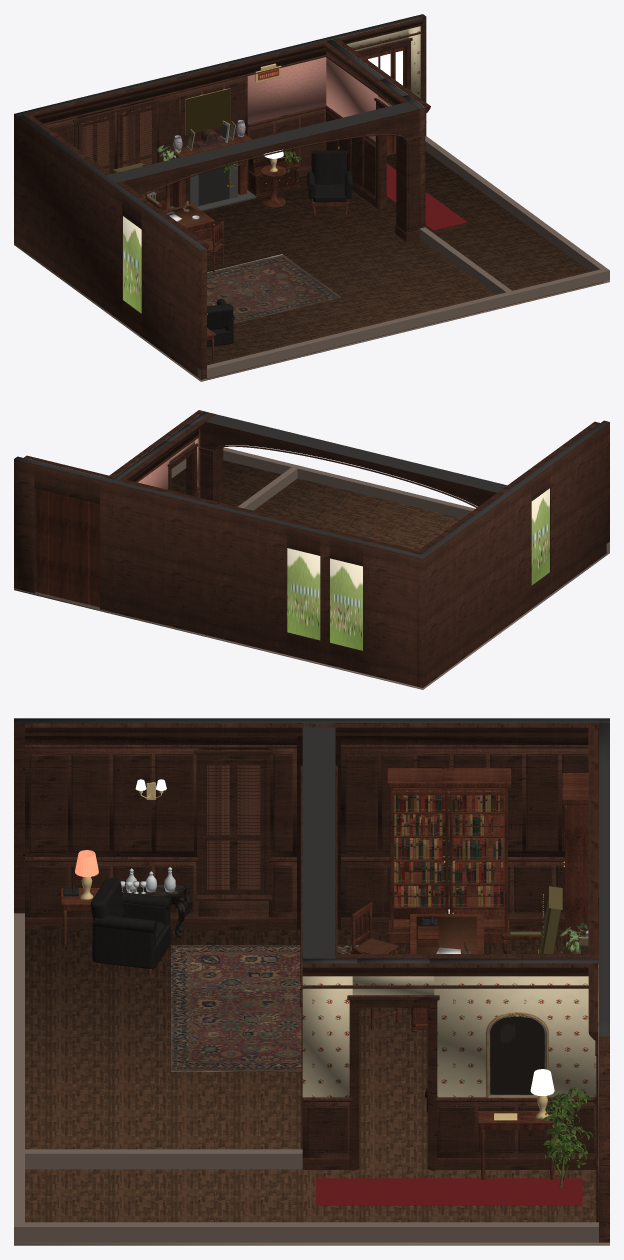
File: room.glb
3 renders of one model, top to bottom at view 1: azimuth 30°, elevation 25°; view 2: azimuth 150°, elevation 25°; view 3: azimuth 270°, elevation 25°, orthographic. The views are drawn at different scales.
Visible parts, largest first — view 1: floor, arch_mahogany_panel, left_wall_1_ext, left_wall_0_ext, solid_arch, arch_damask_paper, kerb_front_ext, rug, furn_mahogany, furn_mahogany_panel, furn_black_leather, solid_pier1 (+17 smaller); view 2: back_wall_2_ext, left_wall_1_ext, floor, left_wall_0_ext, back_wall_0_ext, furn_mahogany, arch_mahogany_panel, solid_arch, shutter1_view, shutter0_view, back_wall_3_ext, kerb_front (+15 smaller); view 3: arch_mahogany_panel, floor, furn_mahogany, arch_hall_paper, rug, kerb_right_ext, furn_books, furn_mahogany_panel, hall_runner, solid_arch, furn_black_leather, ornate_mirror_01 (+17 smaller).
Part boxes in pixels (left/top/right/bottom): floor: left=202, top=151, right=590, bottom=378; arch_mahogany_panel: left=24, top=18, right=430, bottom=249; left_wall_1_ext: left=14, top=114, right=127, bottom=321; left_wall_0_ext: left=141, top=206, right=206, bottom=379; solid_arch: left=119, top=105, right=406, bottom=195; arch_damask_paper: left=247, top=57, right=391, bottom=141; kerb_front_ext: left=197, top=268, right=609, bottom=379; rug: left=207, top=254, right=341, bottom=323; furn_mahogany: left=145, top=46, right=404, bottom=361; furn_mahogany_panel: left=78, top=106, right=154, bottom=190; furn_black_leather: left=207, top=150, right=352, bottom=346; solid_pier1: left=396, top=102, right=419, bottom=233; back_wall_2_ext: left=100, top=477, right=290, bottom=654; left_wall_1_ext: left=417, top=478, right=531, bottom=687; floor: left=171, top=460, right=461, bottom=550; left_wall_0_ext: left=545, top=420, right=609, bottom=594; back_wall_0_ext: left=363, top=541, right=426, bottom=687; furn_mahogany: left=37, top=489, right=99, bottom=607; arch_mahogany_panel: left=24, top=410, right=599, bottom=554; solid_arch: left=213, top=416, right=500, bottom=506; shutter1_view: left=287, top=548, right=320, bottom=640; shutter0_view: left=330, top=558, right=362, bottom=650; back_wall_3_ext: left=14, top=456, right=37, bottom=592; kerb_front: left=223, top=450, right=471, bottom=518; arch_mahogany_panel: left=25, top=723, right=598, bottom=1222; floor: left=25, top=929, right=596, bottom=1222; furn_mahogany: left=61, top=767, right=588, bottom=1179; arch_hall_paper: left=302, top=964, right=598, bottom=1166; rug: left=171, top=945, right=358, bottom=1071; kerb_right_ext: left=25, top=1222, right=598, bottom=1242; furn_books: left=394, top=790, right=503, bottom=906; furn_mahogany_panel: left=203, top=759, right=263, bottom=894; hall_runner: left=316, top=1178, right=582, bottom=1205; solid_arch: left=302, top=733, right=335, bottom=948; furn_black_leather: left=90, top=878, right=427, bottom=1111; ornate_mirror_01: left=486, top=1012, right=548, bottom=1097.
Bounding box in the file's own units: 9.6 × 2.94 × 7.6.
Materials: 48 (32 with a texture image).
